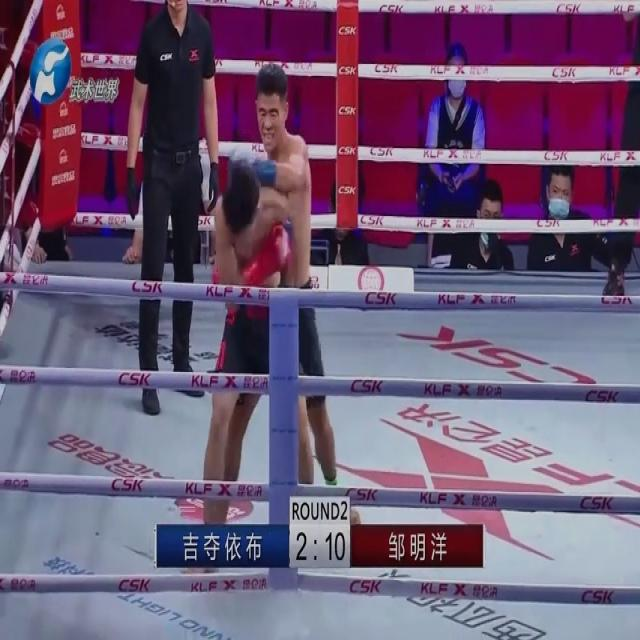fight: (202, 62, 360, 554)
non-fight: (122, 0, 225, 423)
